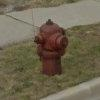Hydrant: (27, 20, 76, 88)
